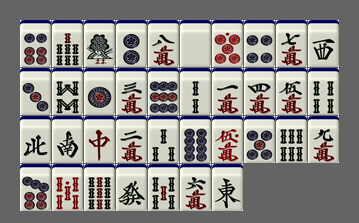0m: (212, 116, 243, 163)
0p: (212, 20, 243, 67)
0s: (52, 164, 83, 211)
1m: (212, 68, 243, 115)
1p: (84, 68, 115, 115)
1s: (84, 20, 115, 67)
1z: (212, 164, 243, 211)
2m: (116, 116, 147, 163)
2p: (116, 20, 147, 67)
2s: (180, 68, 211, 115)
2z: (52, 116, 83, 163)
3m: (116, 68, 147, 115)
3p: (20, 68, 51, 115)
3s: (148, 116, 179, 163)
3z: (308, 20, 339, 67)
4m: (244, 68, 275, 115)
4p: (244, 20, 275, 67)
4s: (308, 68, 339, 115)
4z: (20, 116, 51, 163)
5m: (276, 68, 307, 115)
5p: (244, 116, 275, 163)
5s: (148, 164, 179, 211)
5z: (180, 20, 211, 67)
6m: (180, 164, 211, 211)
6p: (20, 20, 51, 67)
6s: (276, 116, 307, 163)
6z: (116, 164, 147, 211)
7m: (276, 20, 307, 67)
7p: (20, 164, 51, 211)
7s: (52, 20, 83, 67)
7z: (84, 116, 115, 163)
8m: (148, 20, 179, 67)
8p: (180, 116, 211, 163)
8s: (52, 68, 83, 115)
9m: (308, 116, 339, 163)
9p: (148, 68, 179, 115)
9s: (84, 164, 115, 211)
